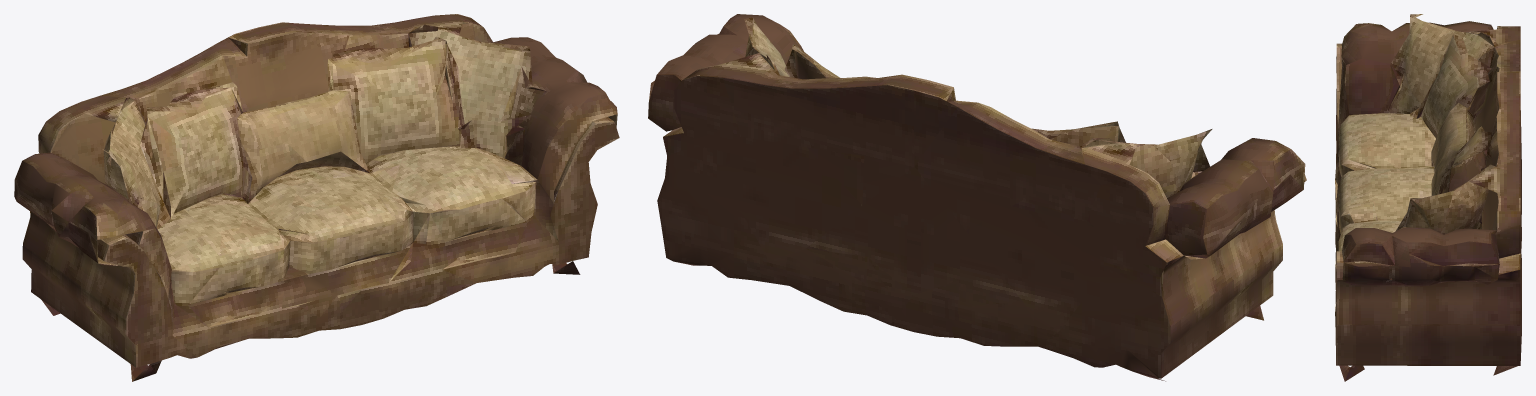
File: patch_sofa.glb
3 renders of one model, left to right at view 1: azimuth 30°, elevation 25°; view 2: azimuth 150°, elevation 25°; view 3: azimuth 270°, elevation 25°, orthographic. The views are drawn at different scales.
Visible parts, largest first — view 1: patch_sofa_src; view 2: patch_sofa_src; view 3: patch_sofa_src.
Part boxes in pixels (box(x1,y1,x2,y2)): patch_sofa_src: box(14, 14, 619, 381); patch_sofa_src: box(648, 14, 1306, 381); patch_sofa_src: box(1335, 14, 1521, 381).
Bounding box in the file's own units: 2.3 × 0.9398 × 0.7806.
1 material, 1 textured.
